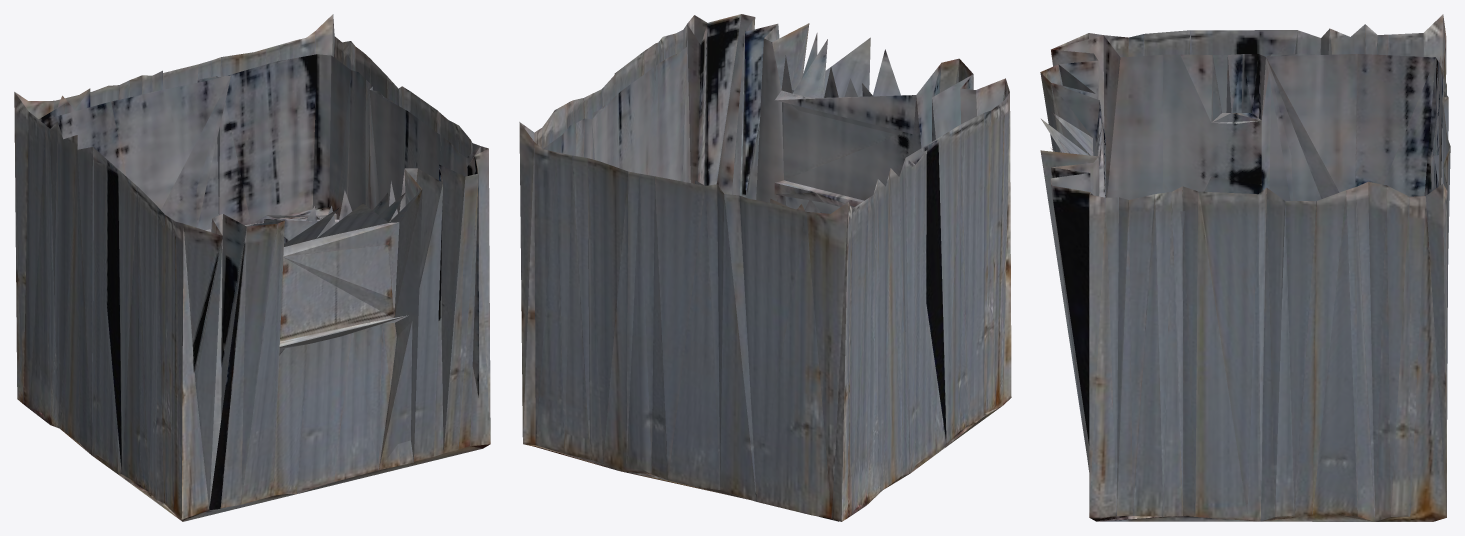
The model's file is tow_shed.glb.
The picture shows the model from 3 angles, left to right: view 1: azimuth 30°, elevation 25°; view 2: azimuth 150°, elevation 25°; view 3: azimuth 270°, elevation 25°; orthographic projection. The views are drawn at different scales.
Visible parts, largest first — view 1: ground; view 2: ground; view 3: ground.
Boxes of the visible parts, x1=… form: ground: x1=14, y1=14, x2=490, y2=521; ground: x1=519, y1=14, x2=1011, y2=521; ground: x1=1040, y1=14, x2=1450, y2=521.
Size of the model in its own units: 3.4 by 3.22 by 3.48.
1 material, 1 textured.
